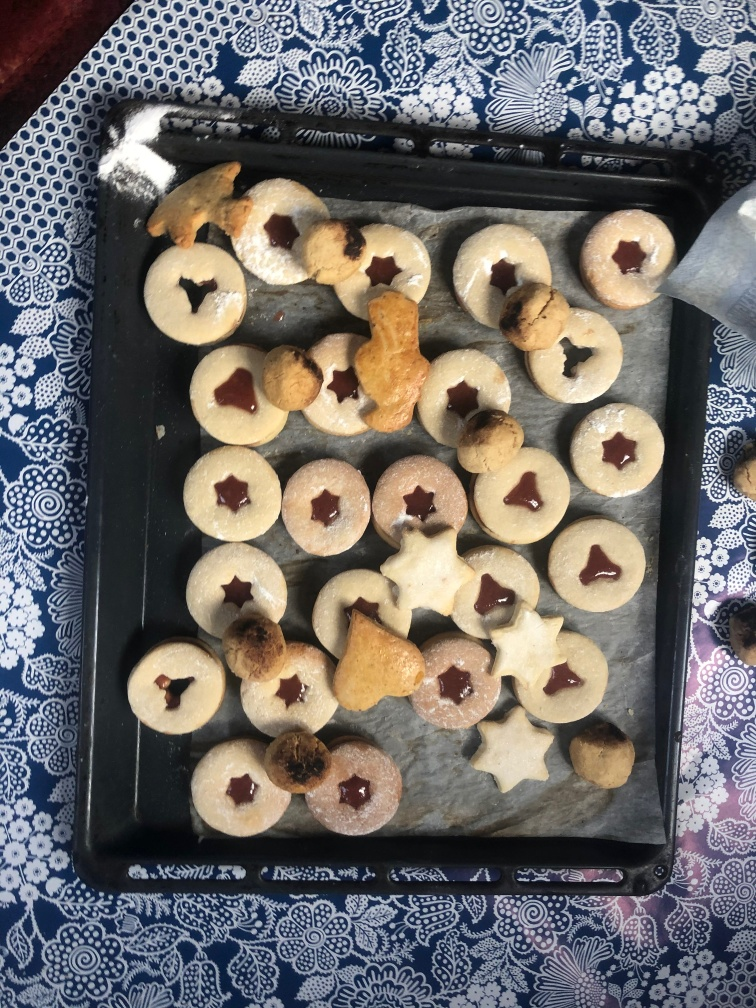christmas shortbread with jam: (146, 245, 252, 344), (234, 179, 329, 286), (454, 221, 549, 326), (126, 640, 222, 739), (571, 405, 666, 504), (548, 519, 646, 613), (582, 206, 674, 306), (179, 449, 281, 537), (286, 456, 368, 560), (190, 344, 272, 440), (340, 222, 428, 310), (378, 450, 465, 539), (183, 543, 293, 611), (190, 740, 267, 833), (334, 740, 405, 832), (427, 634, 496, 724), (432, 344, 515, 418), (483, 472, 573, 538), (474, 545, 545, 627), (282, 640, 332, 727), (561, 333, 625, 400), (315, 329, 355, 433), (565, 632, 610, 723)
heart: (330, 607, 428, 711), (332, 610, 423, 711)
lamb: (144, 161, 249, 244)
santa claus: (356, 289, 425, 435)
snowball: (454, 406, 522, 479), (224, 607, 286, 687), (571, 723, 639, 795), (256, 346, 324, 410), (506, 280, 568, 349), (266, 721, 330, 787)
